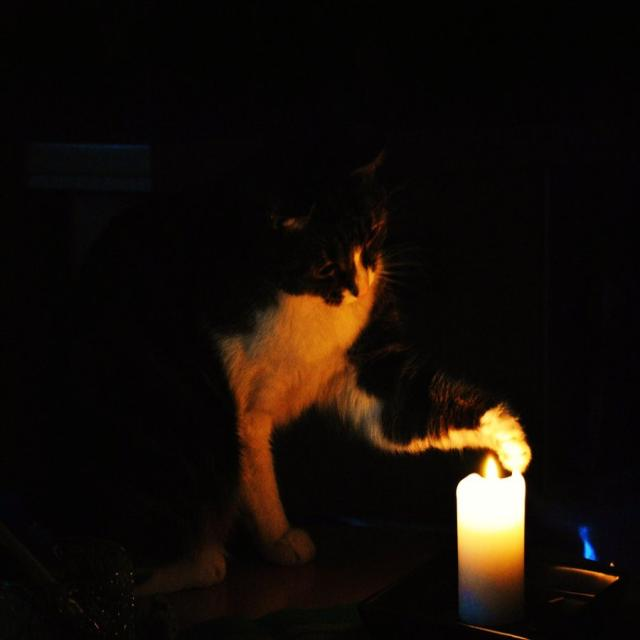Cat: (20, 90, 550, 640)
